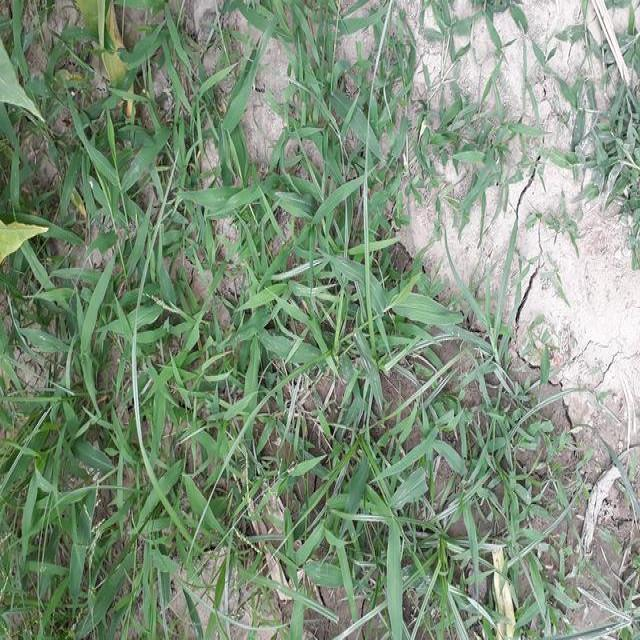weed: (210, 126, 438, 571), (54, 90, 192, 568)
